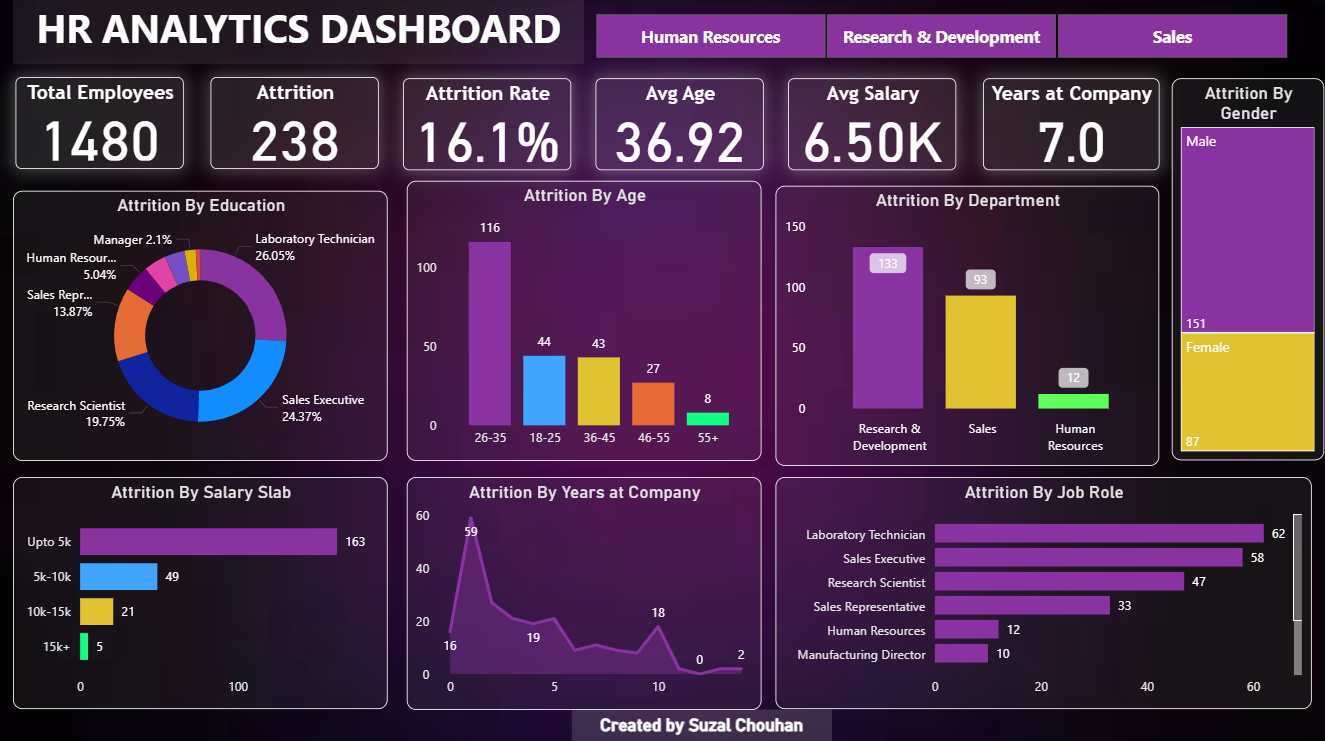

What the dashboard file says about the page in this screenshot:
{"tool":"powerbi","page":{"name":"Page 1","canvas":[1280,720],"ordinal":0},"visuals":[{"type":"card","title":"Total Employees","fields":{"Values":["Sum(HR_Analytics1 (2).EmployeeCount)"]},"box":[17.3,77.6,162.5,88.8],"z":0},{"type":"card","title":"Attrition","fields":{"Values":["Sum(HR_Analytics1 (2).Attrition Count)"]},"box":[204.8,77.6,162.5,88.8],"z":1000},{"type":"card","title":"Attrition Rate","fields":{"Values":["HR_Analytics1 (2).Attrition Rate"]},"box":[391,78.8,162.5,88.8],"z":2000},{"type":"card","title":"Avg Age","fields":{"Values":["Avg(HR_Analytics1 (2).Age)"]},"box":[577.3,78.8,162.5,88.8],"z":3000},{"type":"card","title":"Avg Salary","fields":{"Values":["Avg(HR_Analytics1 (2).MonthlyIncome)"]},"box":[762.3,78.8,162.5,88.8],"z":4000},{"type":"card","title":"Years at Company","fields":{"Values":["Avg(HR_Analytics1 (2).YearsAtCompany)"]},"box":[951,78.8,170,88.8],"z":5000},{"type":"donutChart","title":"Attrition By Education","fields":{"Category":["HR_Analytics1 (2).JobRole"],"Y":["Sum(HR_Analytics1 (2).Attrition Count)"]},"box":[14.5,187,361.9,260.6],"z":6000},{"type":"columnChart","title":"Attrition By Age","fields":{"Y":["Sum(HR_Analytics1 (2).Attrition Count)"],"Category":["HR_Analytics1 (2).AgeGroup"]},"box":[394.5,177.3,342.6,270.2],"z":7000},{"type":"barChart","title":"Attrition By Salary Slab","fields":{"Y":["Sum(HR_Analytics1 (2).Attrition Count)"],"Category":["HR_Analytics1 (2).SalarySlab"]},"box":[14.7,463,361.9,224.4],"z":8000},{"type":"areaChart","title":"Attrition By Years at Company","fields":{"Category":["HR_Analytics1 (2).YearsAtCompany"],"Y":["Sum(HR_Analytics1 (2).Attrition Count)"]},"box":[394.6,462.9,342.2,224.4],"z":9000},{"type":"clusteredBarChart","title":"Attrition By Job Role","fields":{"Category":["HR_Analytics1 (2).JobRole"],"Y":["Sum(HR_Analytics1 (2).Attrition Count)"]},"box":[750.6,463,517.6,224.4],"z":10000},{"type":"textbox","box":[14.5,0,551.3,65.1],"z":11000},{"type":"slicer","fields":{"Values":["HR_Analytics1 (2).Department"]},"box":[551.3,9.7,716.6,55.5],"z":12000},{"type":"lineClusteredColumnComboChart","title":"Attrition By Department","fields":{"Category":["HR_Analytics1 (2).Department"],"Y":["Sum(HR_Analytics1 (2).Attrition Count)"]},"box":[750.4,182.2,370.4,270.2],"z":13000},{"type":"treemap","title":"Attrition By Gender","fields":{"Group":["HR_Analytics1 (2).Gender"],"Values":["Sum(HR_Analytics1 (2).Attrition Count)"]},"box":[1132.8,78.4,147.2,369.2],"z":14000},{"type":"textbox","box":[553.8,687.7,250.9,32.6],"z":15000}]}

Visuals, with their boxes in screenshot pixels (x1, y1, x2, y2), scaled from the page's 1280x720 canvas onto the 1325x741 screenshot:
"Total Employees" card: [18,80,186,171]
"Attrition" card: [212,80,380,171]
"Attrition Rate" card: [405,81,573,172]
"Avg Age" card: [598,81,766,172]
"Avg Salary" card: [789,81,957,172]
"Years at Company" card: [984,81,1160,172]
"Attrition By Education" donutChart: [15,192,390,461]
"Attrition By Age" columnChart: [408,182,763,461]
"Attrition By Salary Slab" barChart: [15,477,390,707]
"Attrition By Years at Company" areaChart: [408,476,763,707]
"Attrition By Job Role" clusteredBarChart: [777,477,1313,707]
textbox: [15,0,586,67]
slicer - HR_Analytics1 (2).Department: [571,10,1312,67]
"Attrition By Department" lineClusteredColumnComboChart: [777,188,1160,466]
"Attrition By Gender" treemap: [1173,81,1324,461]
textbox: [573,708,833,740]
